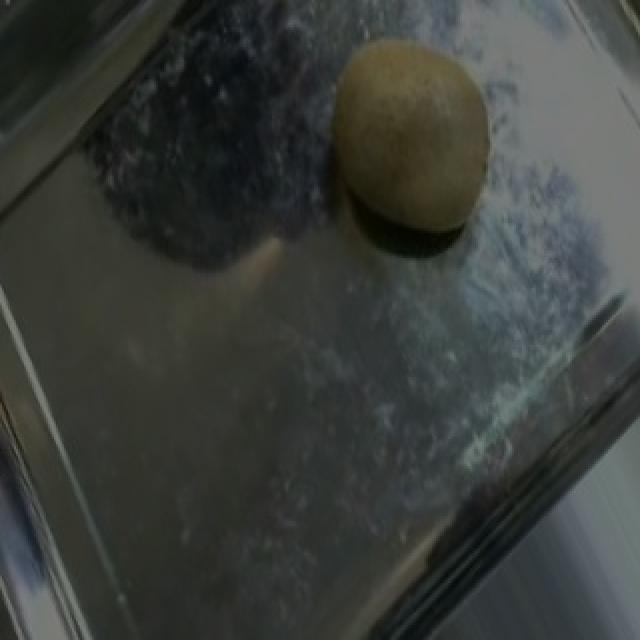Fruit: (292, 12, 524, 273)
